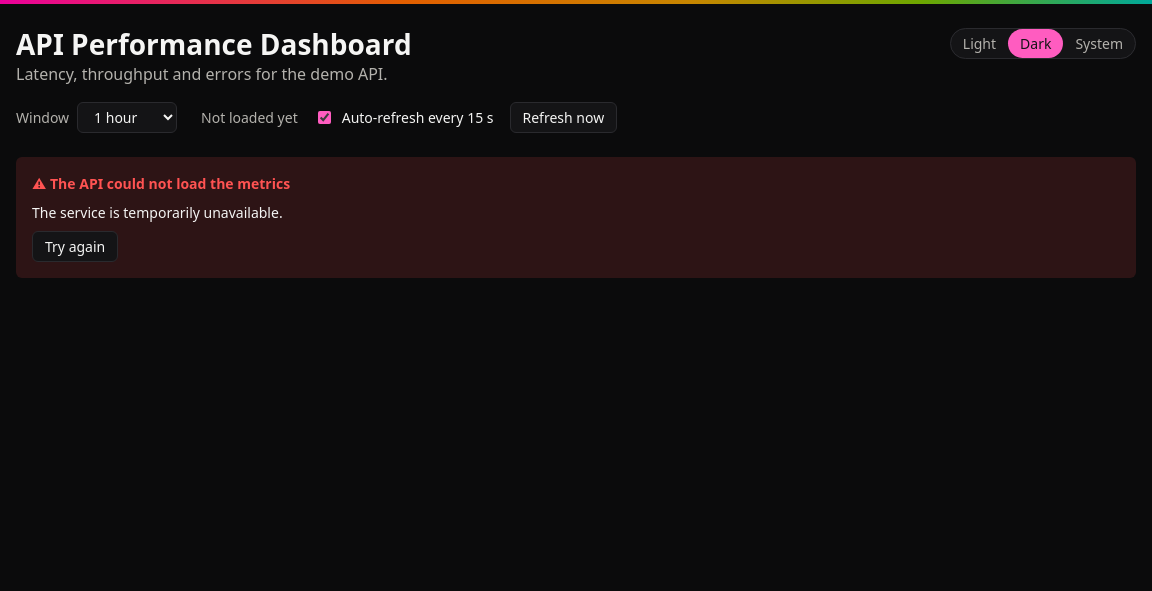
Test case: App › shows one error for the page when the first load fails, and recovers on retry
Expected: the message shows "The service is temporarily unavailable.", [32, 203, 283, 222]
Expected: the element "Last 1 hour" is not shown
What coordinates should you click on to do the following:
click the button "Try again"
I would click on:
 (75, 246)
Its box is [32, 231, 118, 262].
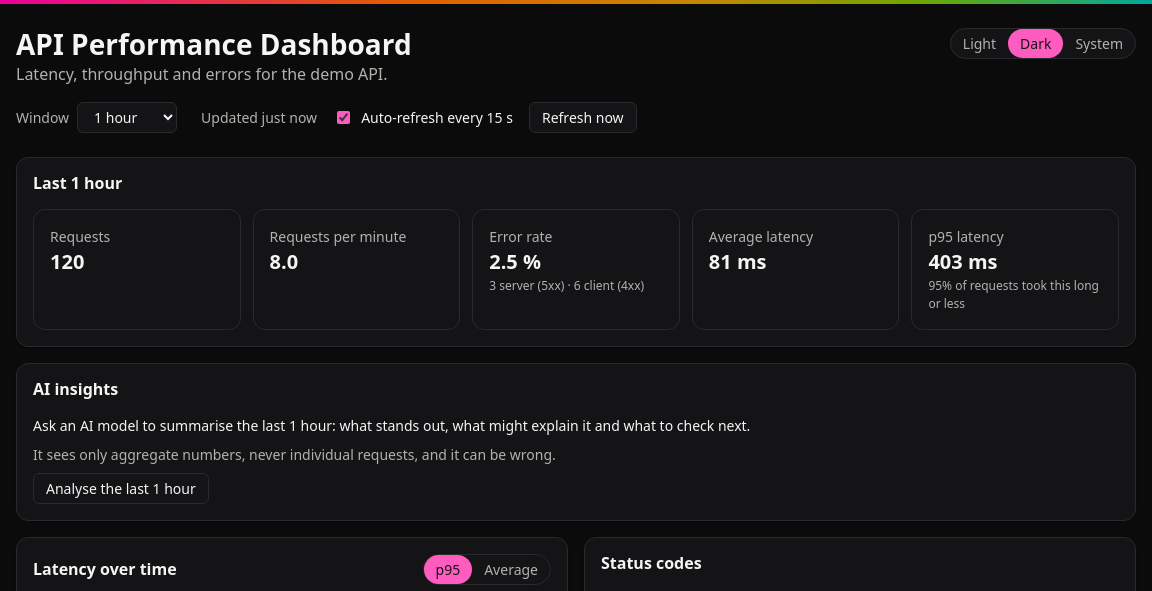
Now the element "Last 1 hour" is shown, box [16, 157, 1136, 347]
